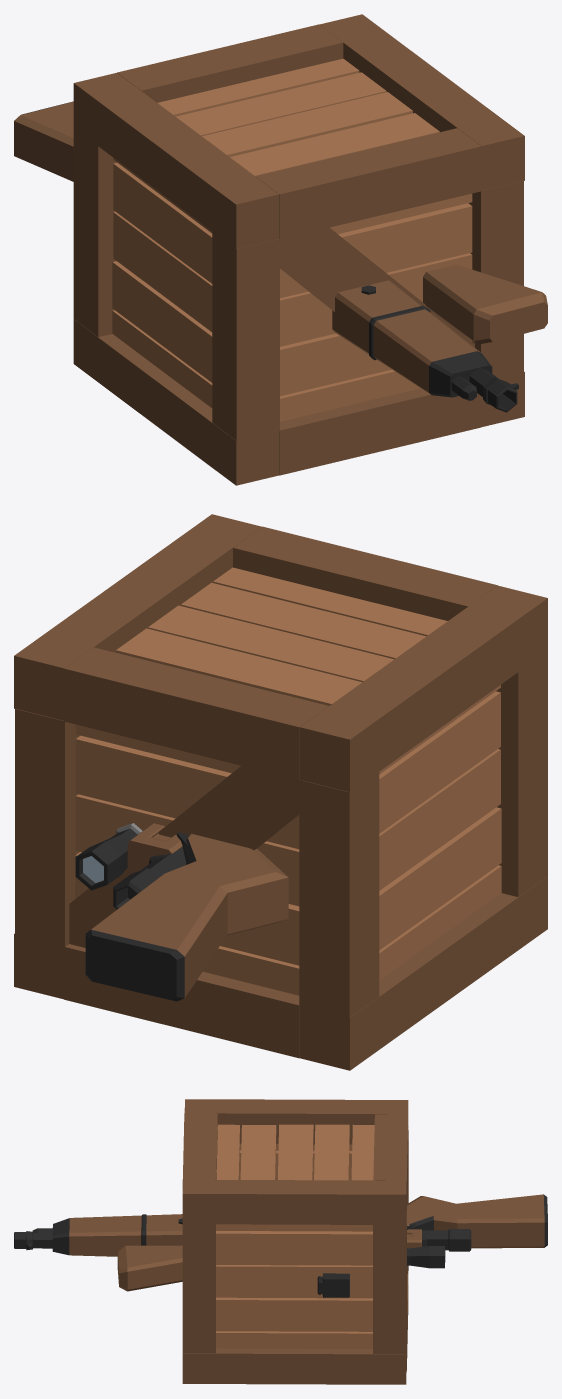
Rendered from soldierweapon.fbx.
The picture shows the model from 3 angles, top to bottom: view 1: azimuth 30°, elevation 25°; view 2: azimuth 150°, elevation 25°; view 3: azimuth 270°, elevation 25°; orthographic projection. The views are drawn at different scales.
Parts seen in each view (by area): view 1: Cube.000, Sniper.001, SubMachineGun.012; view 2: Cube.000, Sniper.001, SubMachineGun.012; view 3: Cube.000, Sniper.001, SubMachineGun.012.
Part boxes in pixels (x1,y1,x2,y2): Cube.000: [73, 14, 524, 485]; Sniper.001: [14, 101, 518, 412]; SubMachineGun.012: [423, 264, 547, 344]; Cube.000: [14, 514, 547, 1070]; Sniper.001: [75, 823, 288, 1001]; SubMachineGun.012: [113, 823, 186, 909]; Cube.000: [182, 1099, 408, 1384]; Sniper.001: [14, 1194, 547, 1268]; SubMachineGun.012: [117, 1229, 471, 1297].
Bounding box in the file's own units: 310 × 287 × 731.
